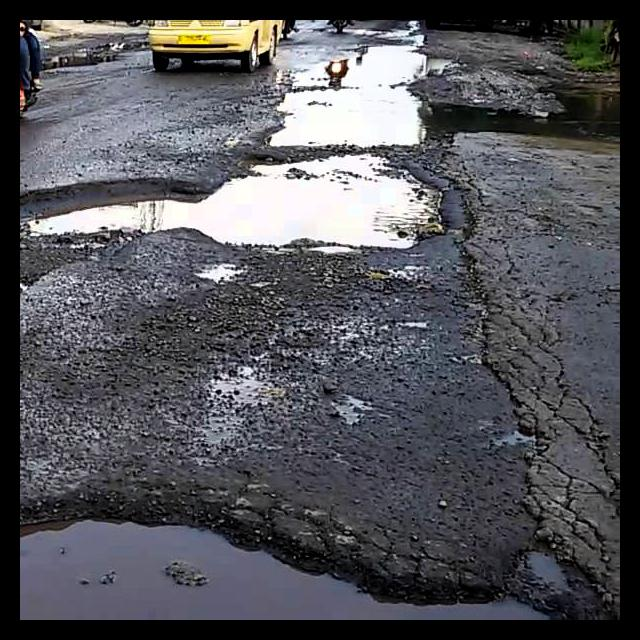lubang_kecil: (20, 483, 574, 620), (24, 144, 457, 267)
retak_memanjang: (466, 242, 620, 539)
